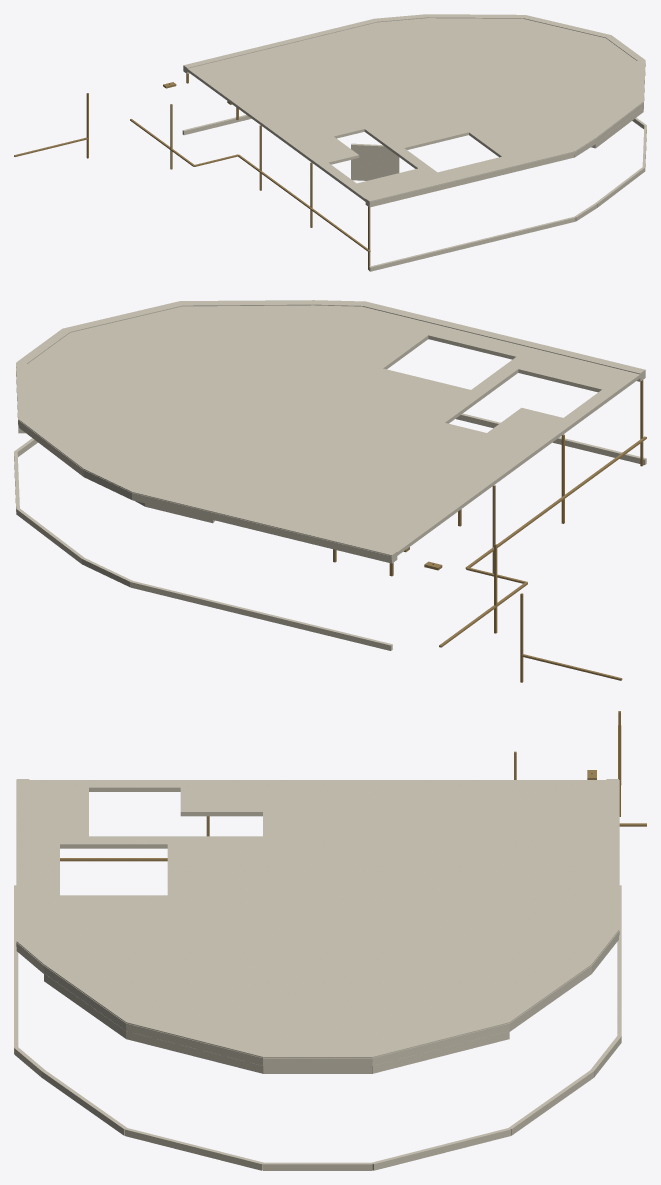
Rendered from ExactBoundedBatches_r003.glb.
3 views of the same model, one above another, from view 1: azimuth 30°, elevation 25°; view 2: azimuth 150°, elevation 25°; view 3: azimuth 270°, elevation 25° (orthographic). The views are drawn at different scales.
Parts seen in each view (by area): view 1: CR_Batch_royalty_ivory_enamel, CR_Batch_lane_private_champagne_metal; view 2: CR_Batch_royalty_ivory_enamel, CR_Batch_lane_private_champagne_metal; view 3: CR_Batch_royalty_ivory_enamel, CR_Batch_lane_private_champagne_metal.
Boxes of the visible parts, x1,y1,x2,y2 form: CR_Batch_royalty_ivory_enamel: [182, 14, 646, 271]; CR_Batch_lane_private_champagne_metal: [14, 74, 370, 269]; CR_Batch_royalty_ivory_enamel: [14, 300, 646, 650]; CR_Batch_lane_private_champagne_metal: [333, 380, 646, 682]; CR_Batch_royalty_ivory_enamel: [14, 779, 621, 1170]; CR_Batch_lane_private_champagne_metal: [60, 711, 646, 861].
Bounding box in the file's own units: 35.58 × 4.54 × 23.08.
3 materials, 2 textured.
